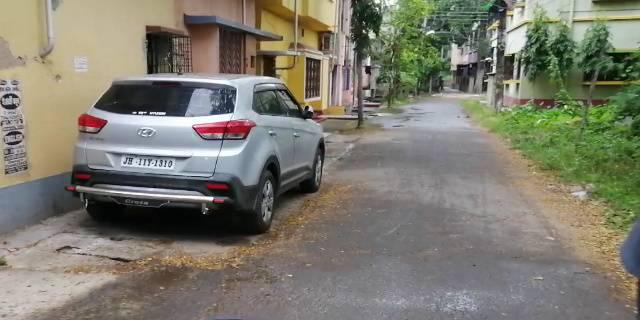Car: (74, 73, 332, 219)
